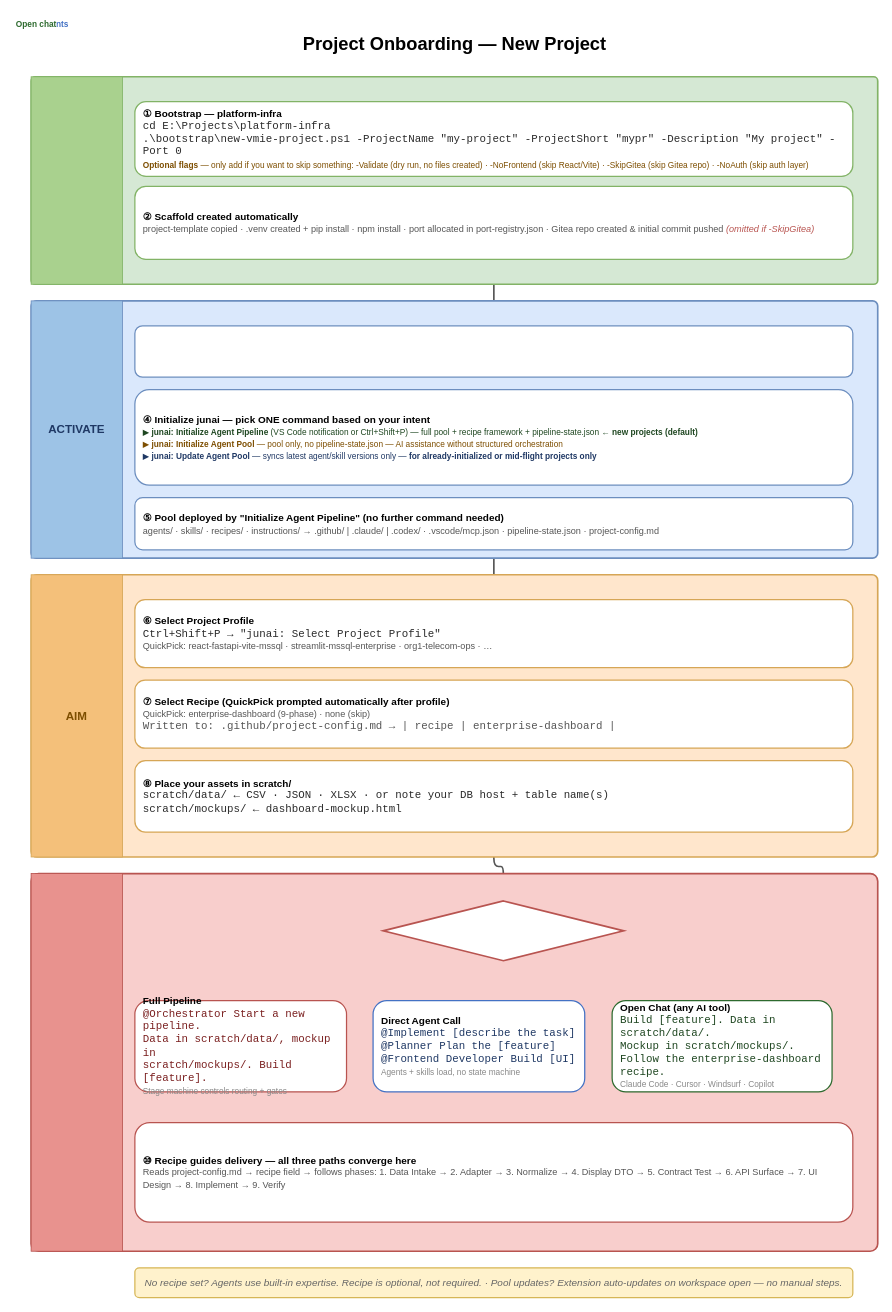
Image size: 892x1312. Some labels were removed from this diagram. Here are the shapes that lost their labels. From the top down, the centre of each, then its label:
At point (76, 180): "SCAFFOLD".
At point (493, 351): "③ Open project in VS Code code E:\Projects\my-project".
At point (503, 930): "⑨ How do you want to work?".
At point (76, 1062): "RUN".
